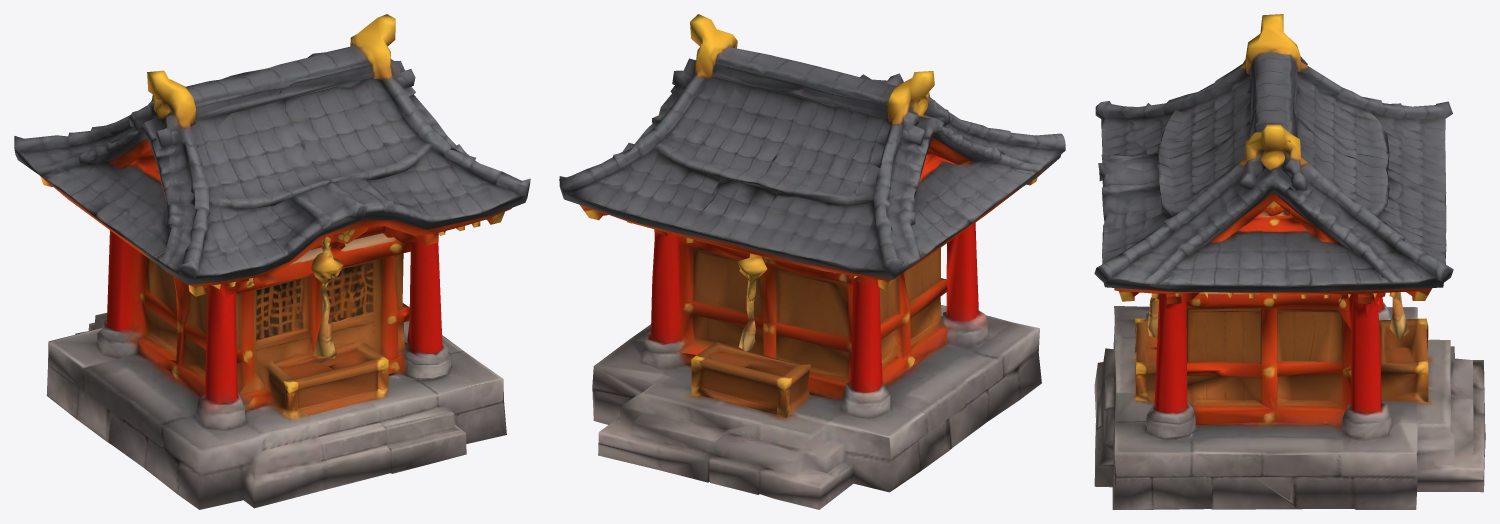
Rendered from shrine_large.glb.
3 renders of one model, left to right at view 1: azimuth 30°, elevation 25°; view 2: azimuth 150°, elevation 25°; view 3: azimuth 270°, elevation 25°, orthographic. The views are drawn at different scales.
Visible parts, largest first — view 1: shrine_large; view 2: shrine_large; view 3: shrine_large.
Part boxes in pixels (x1,y1,x2,y2): shrine_large: (14, 14, 530, 509); shrine_large: (559, 14, 1065, 509); shrine_large: (1094, 14, 1485, 509).
Size of the model in its own units: 0.9724 by 0.977 by 0.9429.
Materials: 1 (1 with a texture image).
